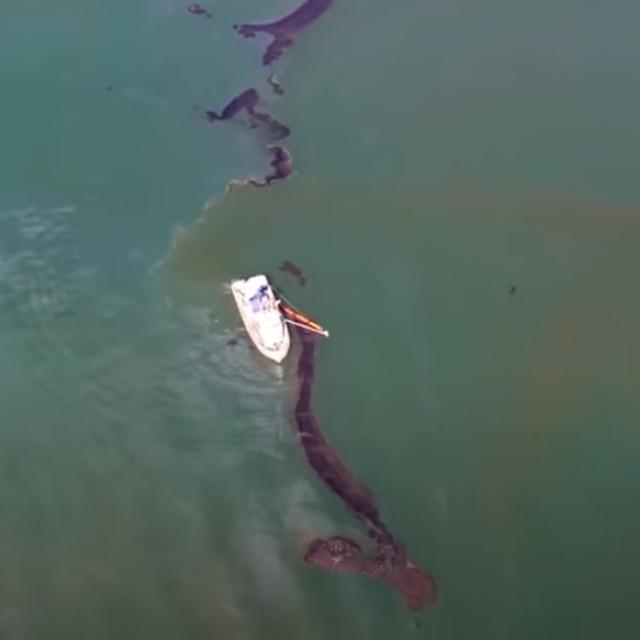truecolor: (292, 321, 437, 612), (206, 87, 293, 188), (234, 0, 334, 64), (268, 73, 283, 94)
